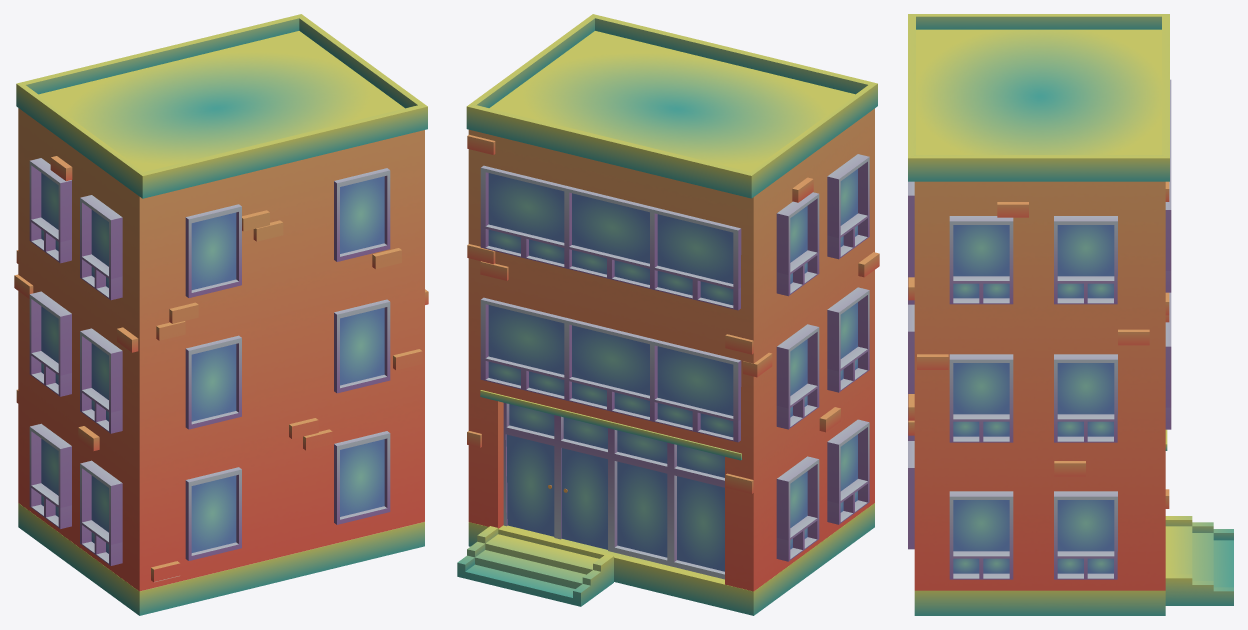
Rendered from SM_3F_L_Half_02.fbx.
The picture shows the model from 3 angles, left to right: view 1: azimuth 30°, elevation 25°; view 2: azimuth 150°, elevation 25°; view 3: azimuth 270°, elevation 25°; orthographic projection. The views are drawn at different scales.
Parts seen in each view (by area): view 1: SM_3F_L_Half_02; view 2: SM_3F_L_Half_02; view 3: SM_3F_L_Half_02.
Part boxes in pixels (left/top/right/bottom): SM_3F_L_Half_02: left=14, top=14, right=428, bottom=615; SM_3F_L_Half_02: left=457, top=14, right=879, bottom=615; SM_3F_L_Half_02: left=908, top=14, right=1233, bottom=615.
Bounding box in the file's own units: 7.85 × 6.96 × 10.8.
